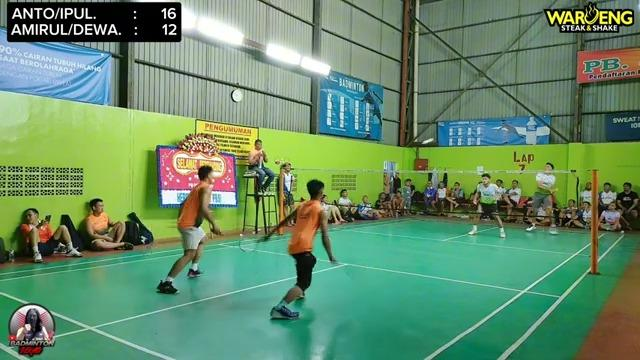Shuttlecock: (422, 134, 434, 148)
